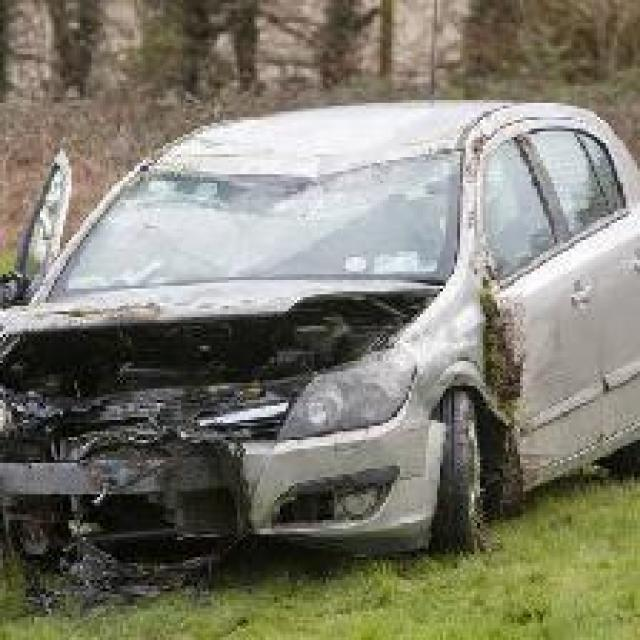damaged: (0, 292, 543, 562), (112, 140, 514, 292)
